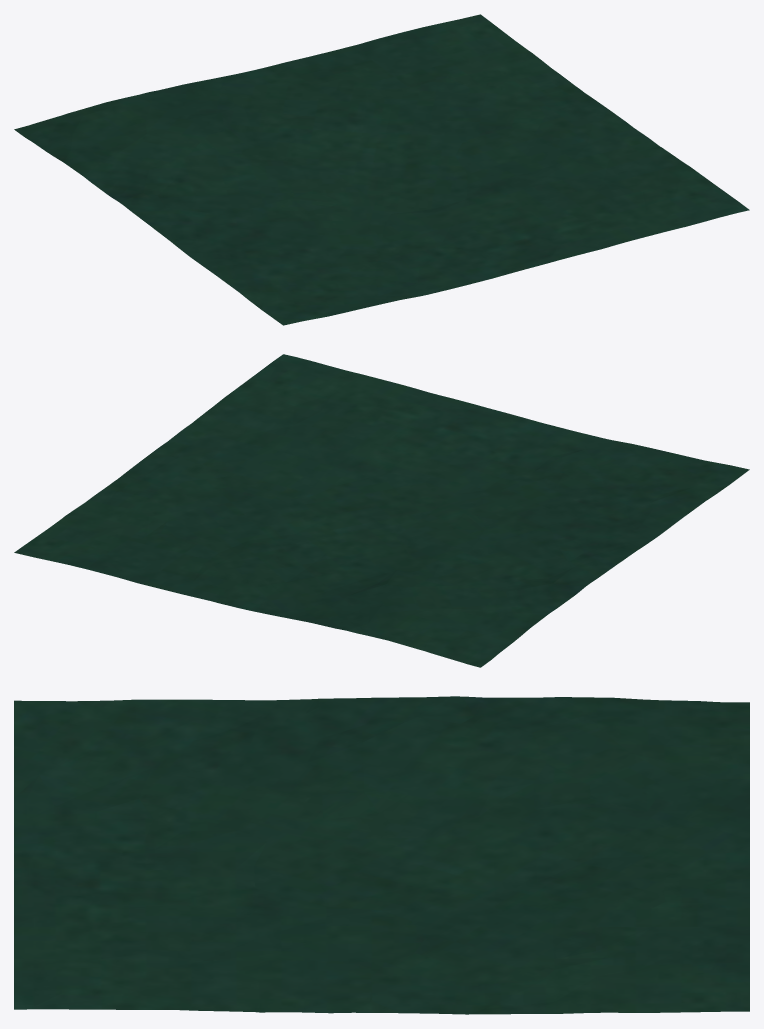
3 views of the same model, one above another, from view 1: azimuth 30°, elevation 25°; view 2: azimuth 150°, elevation 25°; view 3: azimuth 270°, elevation 25° (orthographic). The views are drawn at different scales.
Size of the model in its own units: 52.22 by 1.19 by 52.22.
2 materials, 2 textured.
